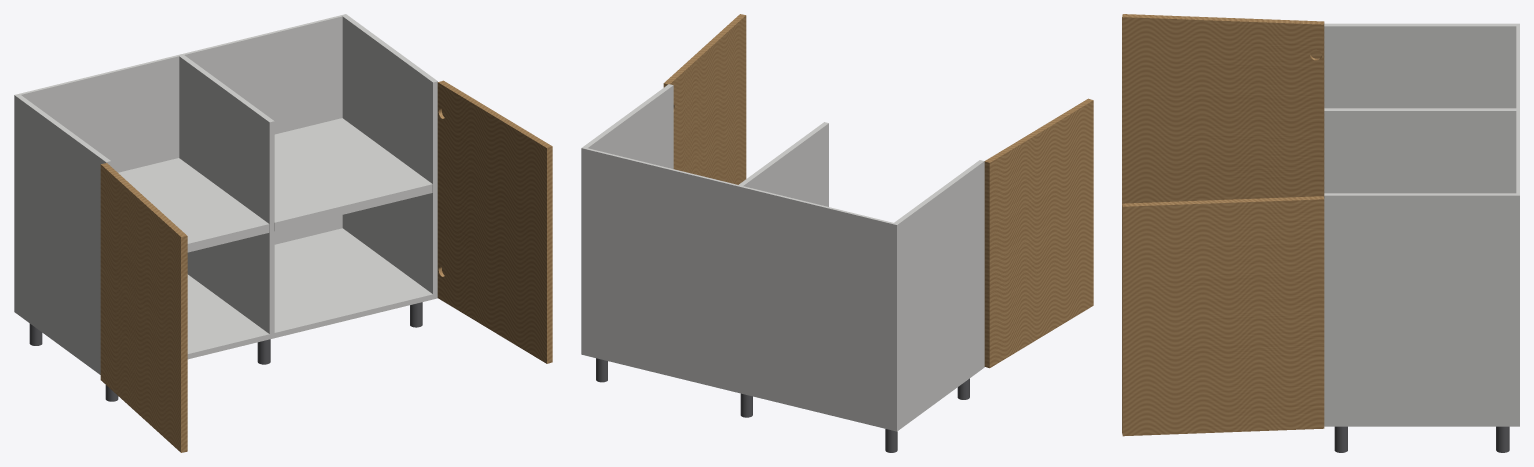
Rendered from w1200_none_default_open.glb.
3 views of the same model, side by side, from view 1: azimuth 30°, elevation 25°; view 2: azimuth 150°, elevation 25°; view 3: azimuth 270°, elevation 25° (orthographic). The views are drawn at different scales.
Parts seen in each view (by area): view 1: white, oak, leg; view 2: white, oak, leg; view 3: oak, white, leg.
Part boxes in pixels (x1,y1,x2,y2): white: [14, 14, 437, 374]; oak: [100, 80, 552, 452]; leg: [29, 302, 422, 401]; white: [581, 84, 984, 431]; oak: [663, 14, 1093, 368]; leg: [596, 358, 969, 452]; oak: [1122, 14, 1324, 436]; white: [1324, 23, 1519, 426]; leg: [1334, 426, 1509, 452].
Size of the model in its own units: 1.34 by 0.85 by 1.17.
3 materials, 1 textured.
